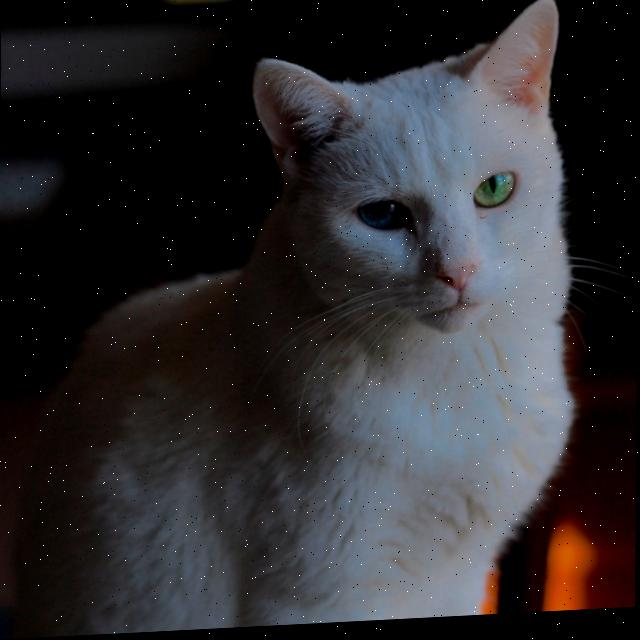Khao Manee: (6, 0, 583, 640)
